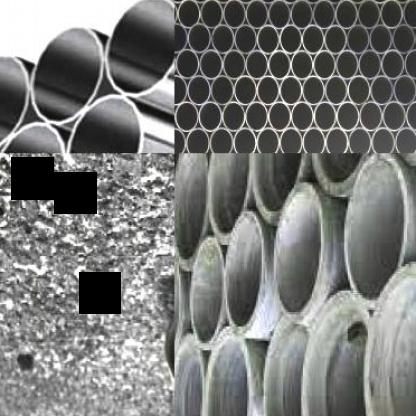pipe: (340, 153, 410, 303), (296, 288, 375, 416), (271, 180, 332, 323), (363, 259, 416, 416), (28, 25, 106, 130), (101, 0, 174, 97), (221, 210, 268, 338), (65, 91, 146, 153), (201, 322, 253, 416), (188, 233, 229, 351), (249, 153, 310, 223), (264, 315, 305, 416), (204, 153, 252, 236), (174, 153, 208, 270), (0, 52, 31, 148), (174, 331, 208, 416), (308, 154, 382, 192), (0, 121, 68, 153), (174, 254, 186, 362), (391, 23, 416, 55), (221, 101, 246, 133), (244, 101, 269, 133), (175, 49, 200, 80), (392, 73, 416, 105), (211, 23, 235, 55), (175, 101, 199, 133), (198, 101, 222, 133), (336, 101, 360, 133), (313, 101, 337, 133), (359, 102, 384, 132), (380, 50, 405, 80), (187, 75, 211, 106), (382, 101, 406, 132), (370, 75, 394, 106), (291, 101, 314, 133), (268, 101, 291, 133), (187, 24, 212, 53), (347, 76, 371, 106), (301, 76, 325, 106), (324, 76, 348, 106), (199, 50, 223, 80), (245, 50, 269, 80), (279, 76, 303, 106), (369, 24, 393, 54), (279, 24, 303, 54), (290, 50, 314, 80), (335, 50, 359, 80), (290, 0, 314, 30), (346, 24, 370, 54), (301, 24, 325, 54), (358, 50, 382, 80), (211, 75, 234, 106), (234, 75, 257, 106), (257, 75, 280, 106), (177, 0, 201, 29), (200, 0, 224, 29), (267, 0, 291, 29), (379, 0, 403, 29), (334, 0, 358, 29), (234, 24, 257, 54), (268, 50, 291, 80), (313, 50, 336, 80), (223, 50, 246, 80), (324, 24, 347, 54), (257, 24, 280, 54), (209, 127, 234, 154), (245, 0, 268, 29), (223, 0, 246, 29), (357, 0, 380, 29), (312, 0, 335, 29), (186, 127, 210, 154), (371, 127, 395, 154), (324, 127, 348, 154), (256, 127, 280, 154), (393, 126, 416, 153), (233, 127, 256, 154), (302, 127, 325, 154), (348, 127, 371, 154), (280, 127, 303, 154), (174, 22, 188, 54), (174, 75, 188, 106), (402, 0, 416, 29), (403, 49, 416, 79), (405, 101, 416, 132), (174, 128, 186, 153), (233, 0, 257, 4), (345, 0, 369, 4), (300, 0, 324, 4), (278, 0, 301, 4), (367, 0, 390, 4), (256, 0, 279, 4), (323, 0, 345, 4), (188, 0, 211, 3), (211, 0, 234, 3), (390, 0, 413, 3), (174, 0, 188, 3)
